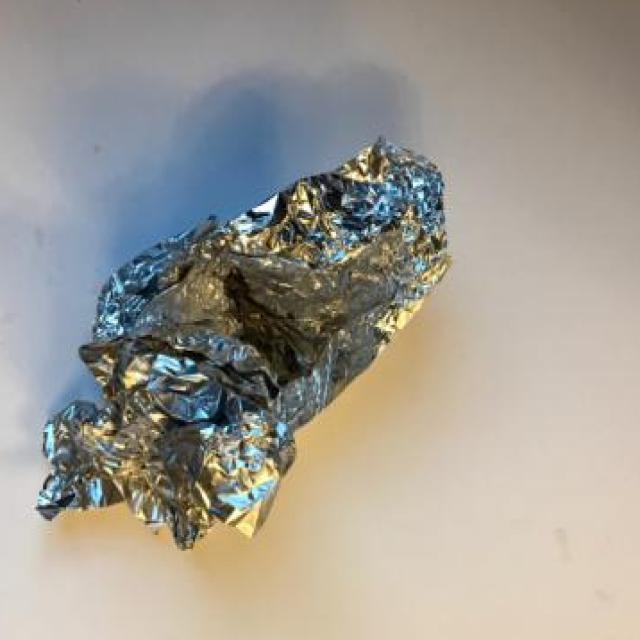organic: (47, 115, 458, 588)
